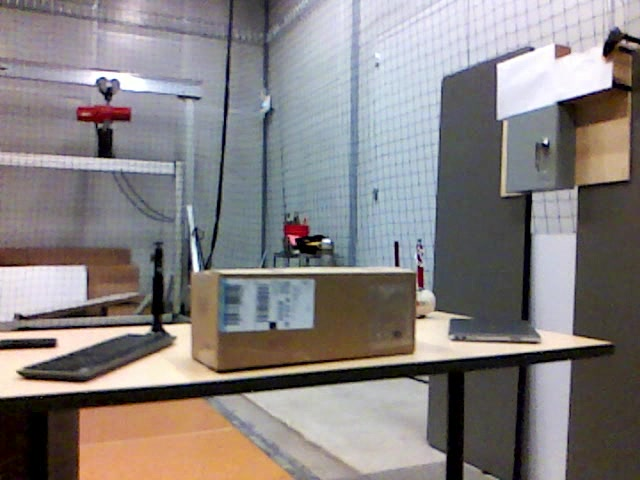box: (192, 267, 418, 372)
